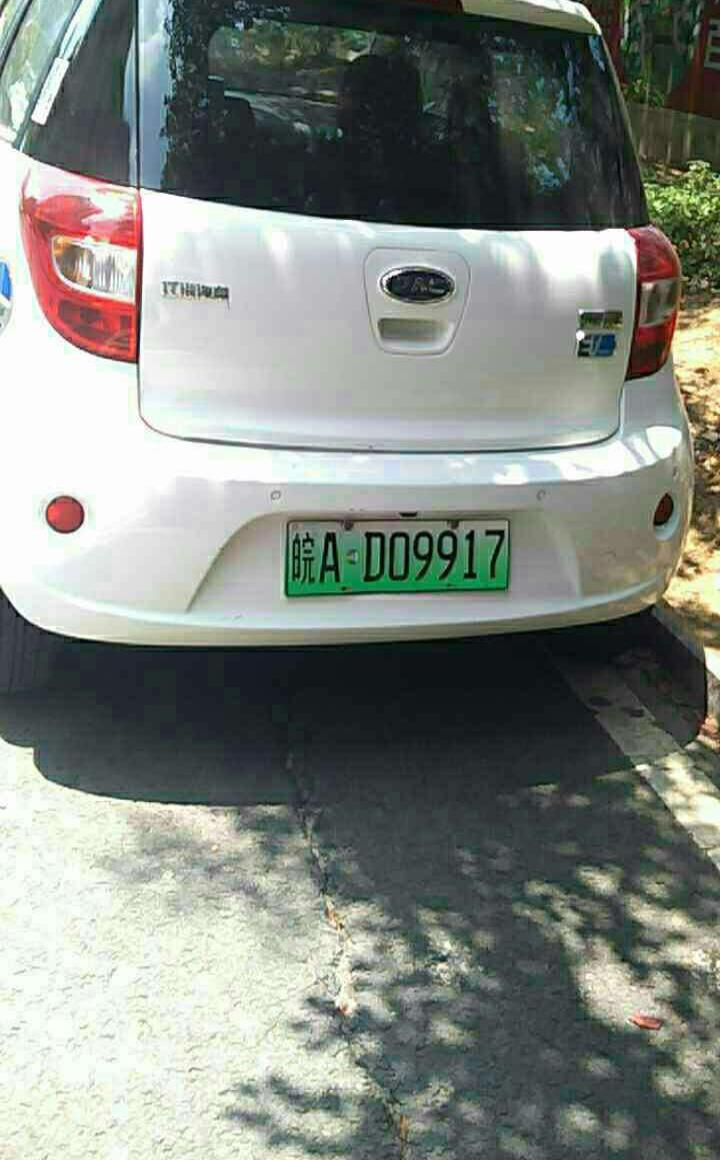car_id: (278, 517, 513, 594)
